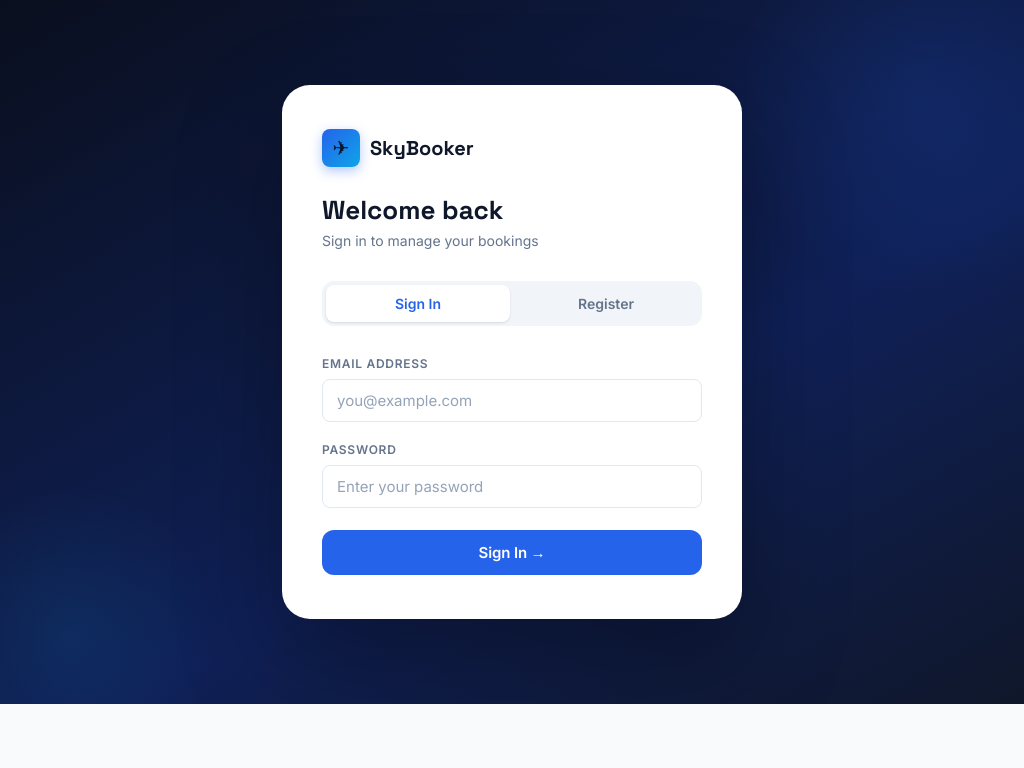
LoginPage — rendering › switching to Register tab shows Create account heading
The width and height of the screenshot is (1024, 768).
Click the button "Register": coordinates (606, 303) x1=514 y1=285 x2=698 y2=322
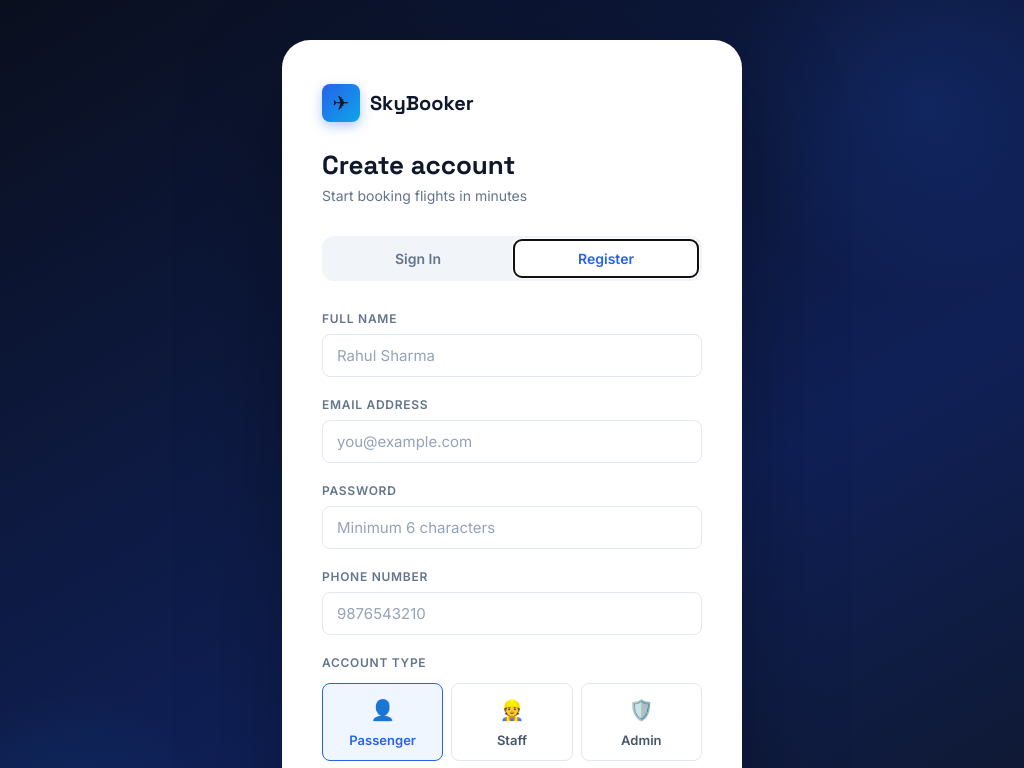
expect the heading "Create account" is shown: met, box x1=322 y1=148 x2=515 y2=182
